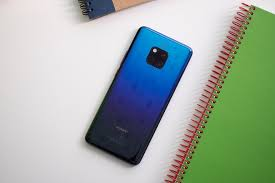huawei: (78, 22, 196, 167)
